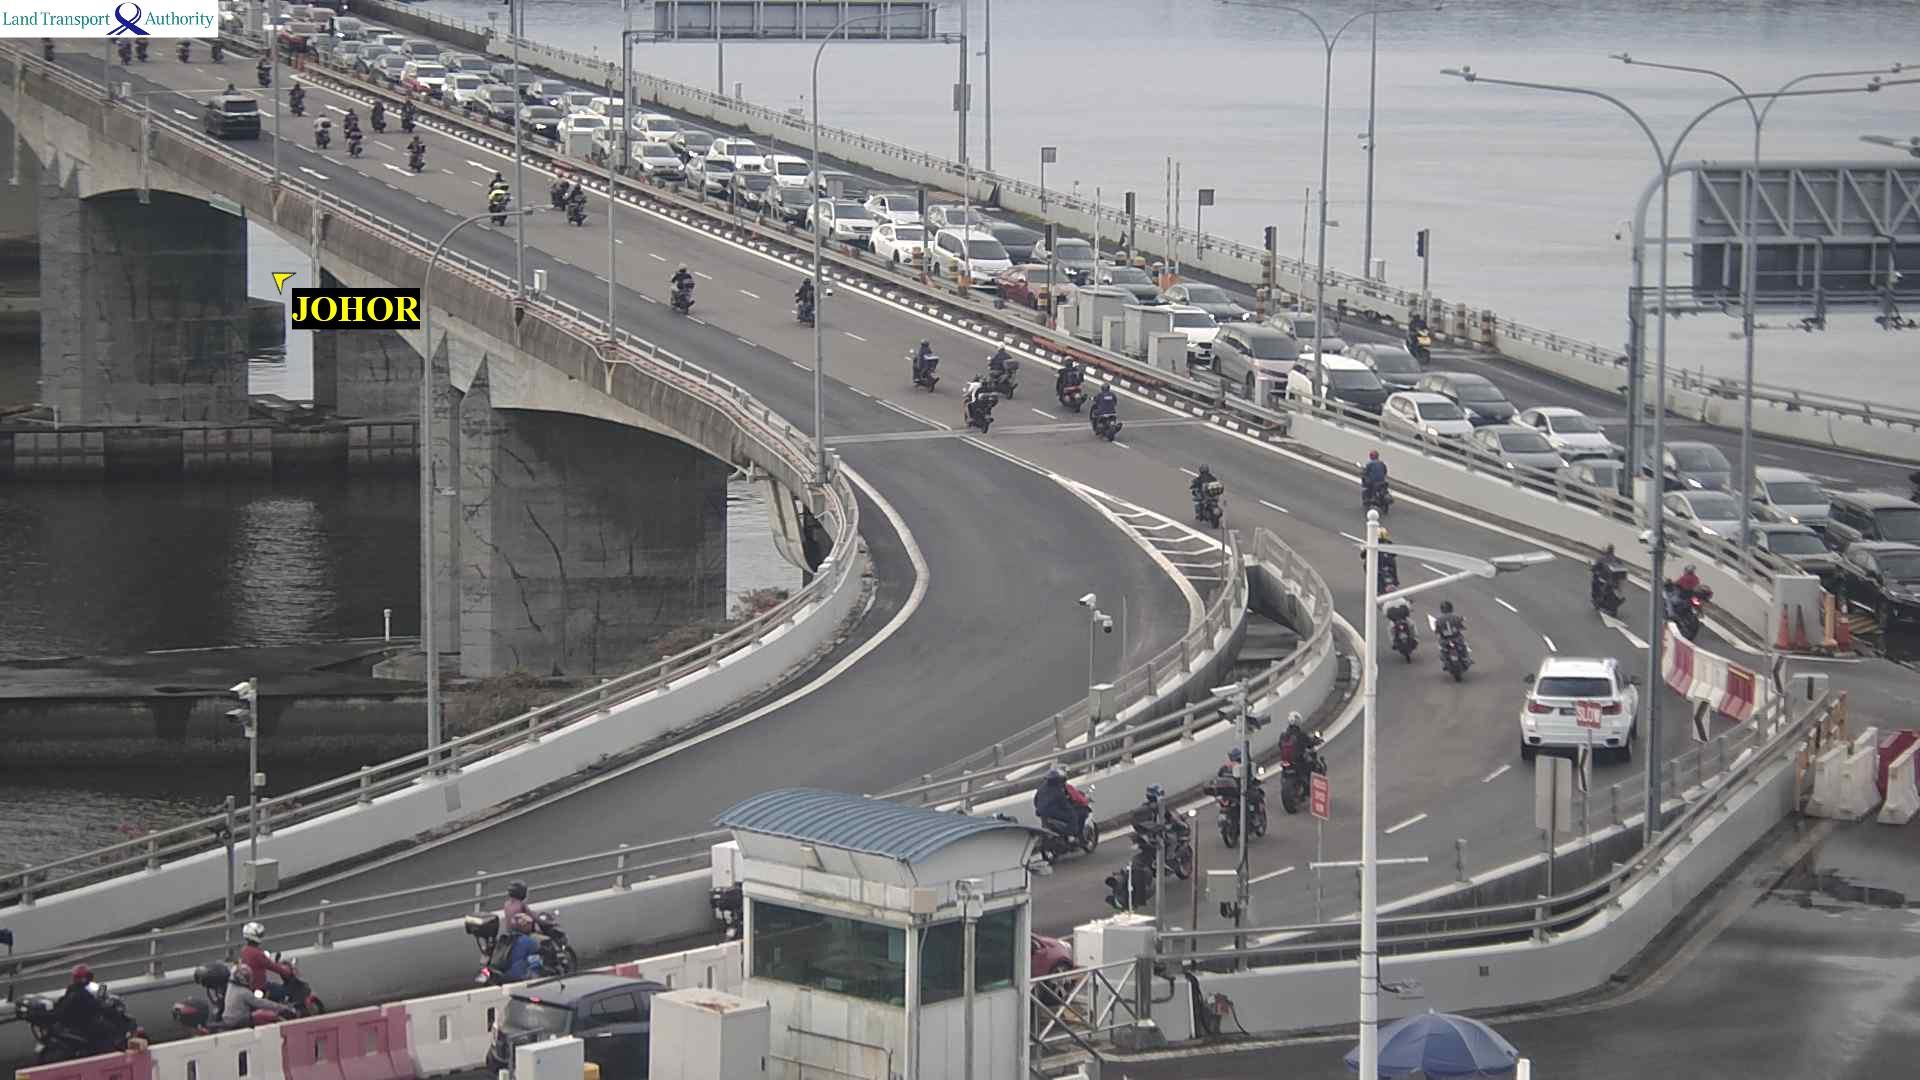vehicle-secondlink-johor: (1516, 654, 1639, 756), (1110, 778, 1192, 897), (199, 922, 314, 1005), (476, 886, 574, 973), (34, 972, 141, 1050), (179, 972, 284, 1030), (1039, 774, 1097, 857), (965, 349, 1011, 417), (1287, 707, 1320, 799), (1221, 745, 1254, 829), (199, 88, 261, 133), (1055, 365, 1104, 419), (1183, 463, 1225, 522), (1440, 592, 1468, 679), (1352, 452, 1390, 512), (1381, 595, 1418, 655), (1600, 551, 1636, 608), (911, 340, 952, 389), (964, 378, 1002, 427), (662, 268, 696, 314), (1054, 359, 1084, 409), (981, 351, 1013, 396), (796, 278, 823, 324), (491, 179, 516, 214), (284, 75, 306, 111), (568, 183, 587, 220), (368, 102, 388, 135), (545, 174, 562, 211), (487, 187, 505, 216), (311, 111, 328, 138), (258, 55, 270, 91), (115, 41, 129, 69), (405, 102, 418, 132), (137, 40, 153, 65), (181, 38, 195, 65), (347, 135, 363, 157), (409, 136, 421, 164), (212, 38, 223, 62), (343, 105, 353, 128)
vehicle-secondlink-singapore: (1211, 327, 1367, 372), (1834, 545, 1920, 612), (1515, 409, 1630, 456), (1416, 373, 1526, 421), (1828, 492, 1920, 546), (1716, 531, 1847, 568), (1472, 426, 1617, 459), (927, 223, 1044, 262), (1006, 249, 1125, 287), (1294, 359, 1412, 396), (1654, 495, 1778, 529), (1640, 444, 1746, 484), (1741, 472, 1844, 510), (1375, 397, 1494, 430), (1457, 431, 1576, 464), (717, 175, 833, 208), (1160, 285, 1254, 323), (1030, 239, 1121, 277), (1830, 487, 1920, 522), (899, 199, 997, 231), (802, 207, 890, 240), (998, 270, 1085, 303), (1067, 270, 1166, 299), (1838, 541, 1920, 575), (858, 196, 957, 224), (708, 136, 786, 166), (1091, 280, 1175, 307), (475, 102, 571, 125), (601, 111, 684, 136), (527, 111, 611, 135), (625, 150, 692, 178), (806, 174, 873, 202), (860, 191, 930, 218), (381, 47, 454, 73), (676, 164, 749, 187), (423, 74, 501, 95), (625, 117, 692, 140), (516, 107, 572, 133), (518, 80, 584, 103), (380, 62, 454, 82), (521, 90, 595, 109), (673, 131, 741, 152), (766, 160, 825, 182), (390, 42, 448, 63), (481, 62, 539, 83), (438, 67, 502, 86), (443, 55, 496, 76), (367, 34, 419, 53), (353, 28, 405, 46), (313, 20, 360, 40), (476, 92, 527, 109), (324, 16, 367, 36), (282, 26, 323, 45), (287, 33, 315, 53)
